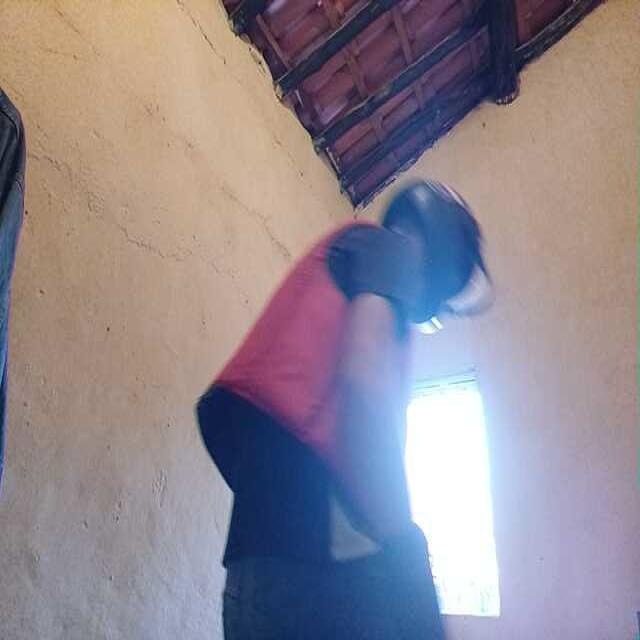capacete: (383, 188, 497, 319)
colete: (209, 225, 399, 461)
pessoa: (199, 215, 460, 632)
